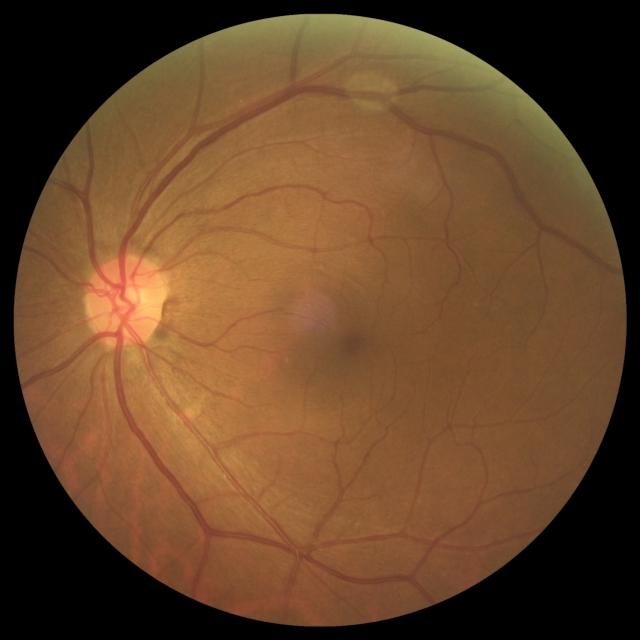OC: (114, 282, 142, 315)
OD: (82, 254, 167, 347)
